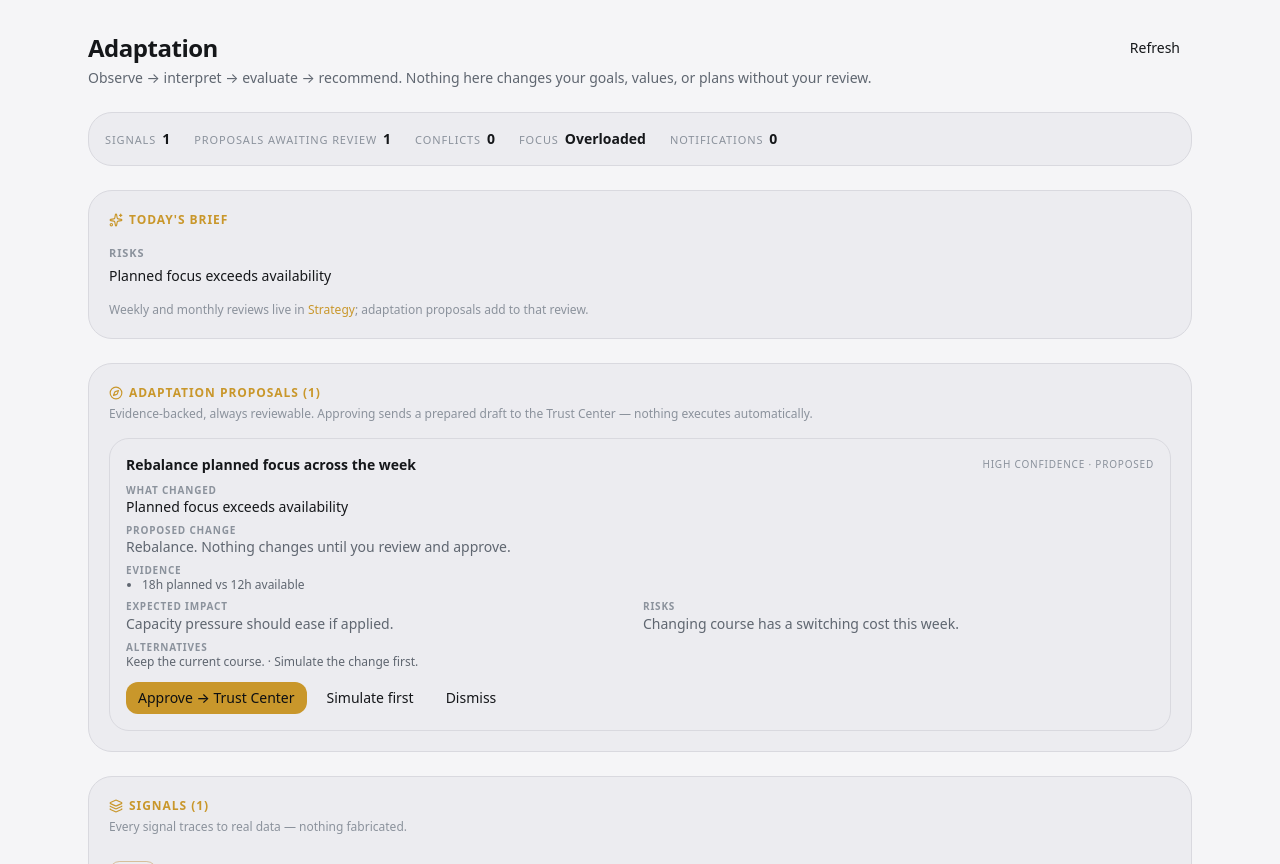
it: AdaptationCenterView › dismissing a proposal removes it from view and persists the dismissal
The width and height of the screenshot is (1280, 864).
Click the button "Dismiss": (471, 698) [434,682,508,714]
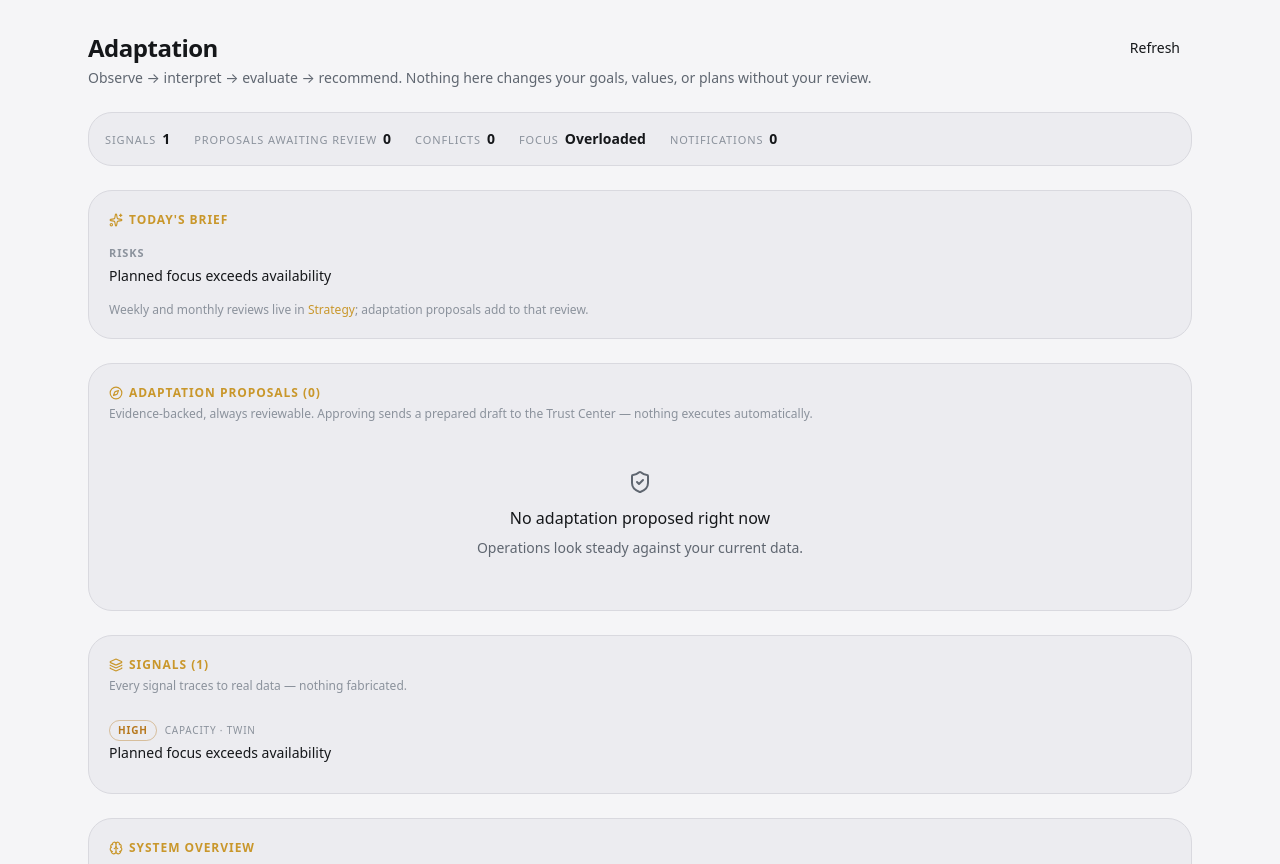
Expected: the text "Rebalance planned focus across the week" is gone
